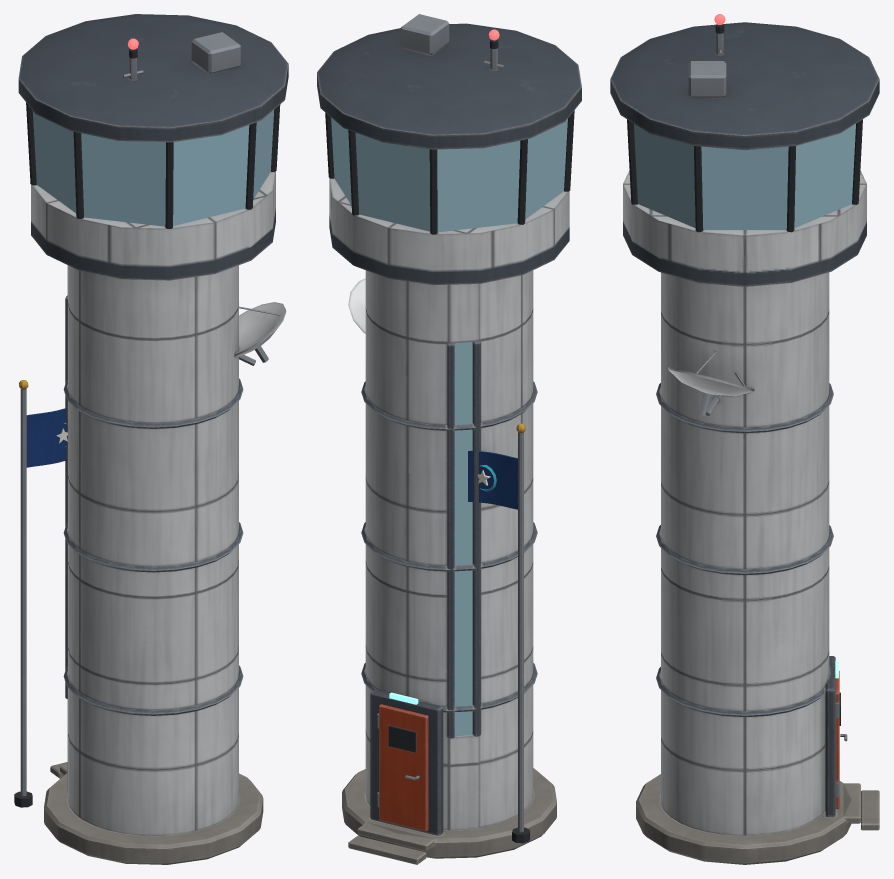
The model's file is torre_control.fbx.
3 renders of one model, left to right at view 1: azimuth 30°, elevation 25°; view 2: azimuth 150°, elevation 25°; view 3: azimuth 270°, elevation 25°, orthographic.
Visible parts, largest first — view 1: torre_control, torre_control_cristal, torre_control_bandera; view 2: torre_control, torre_control_cristal, torre_control_puerta, torre_control_bandera; view 3: torre_control, torre_control_cristal, torre_control_puerta.
Boxes of the visible parts, bbox=[...] form: torre_control: bbox=[14, 14, 288, 864]; torre_control_cristal: bbox=[33, 110, 273, 226]; torre_control_bandera: bbox=[26, 408, 67, 467]; torre_control: bbox=[317, 14, 581, 864]; torre_control_cristal: bbox=[331, 117, 567, 736]; torre_control_puerta: bbox=[377, 704, 428, 831]; torre_control_bandera: bbox=[468, 450, 517, 509]; torre_control: bbox=[610, 22, 879, 864]; torre_control_cristal: bbox=[634, 124, 855, 229]; torre_control_puerta: bbox=[835, 671, 847, 808].
Bounding box in the file's own units: 4.3 × 13.91 × 4.3.
4 materials, 1 textured.
